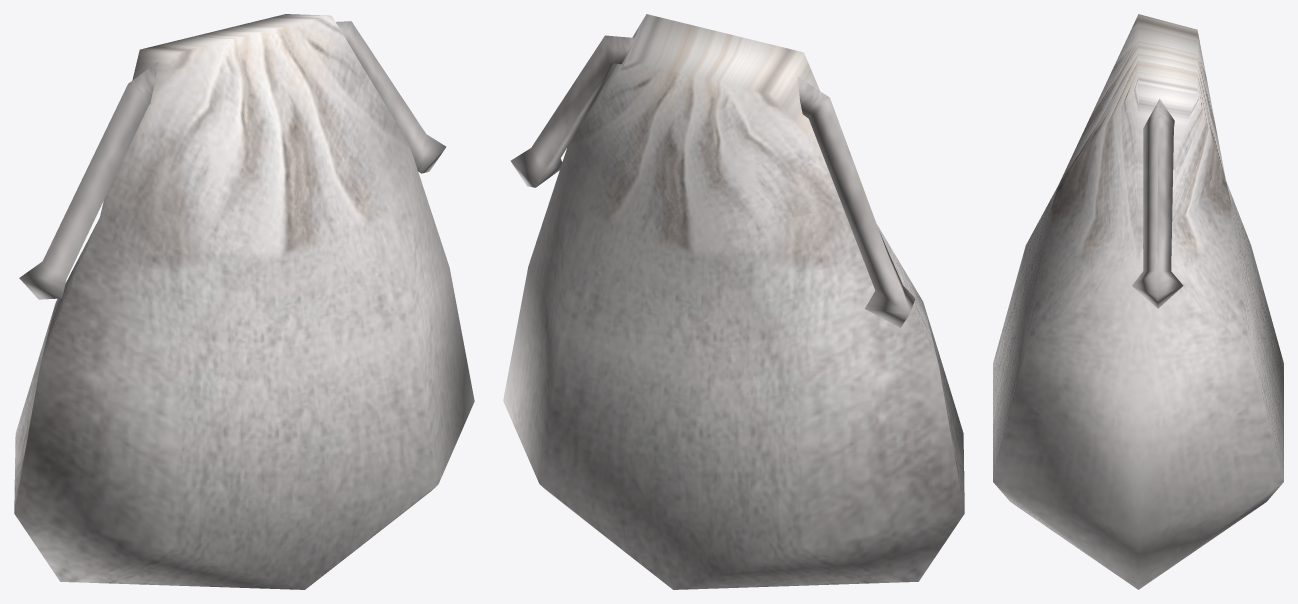
Rendered from MuslinBag.FBX.
3 views of the same model, side by side, from view 1: azimuth 30°, elevation 25°; view 2: azimuth 150°, elevation 25°; view 3: azimuth 270°, elevation 25° (orthographic). The views are drawn at different scales.
Parts seen in each view (by area): view 1: MuslinBag; view 2: MuslinBag; view 3: MuslinBag.
Boxes of the visible parts, x1=… form: MuslinBag: x1=14, y1=14, x2=474, y2=589; MuslinBag: x1=503, y1=14, x2=964, y2=589; MuslinBag: x1=993, y1=14, x2=1283, y2=589.
Size of the model in its own units: 0.1671 by 0.1734 by 0.0992.
